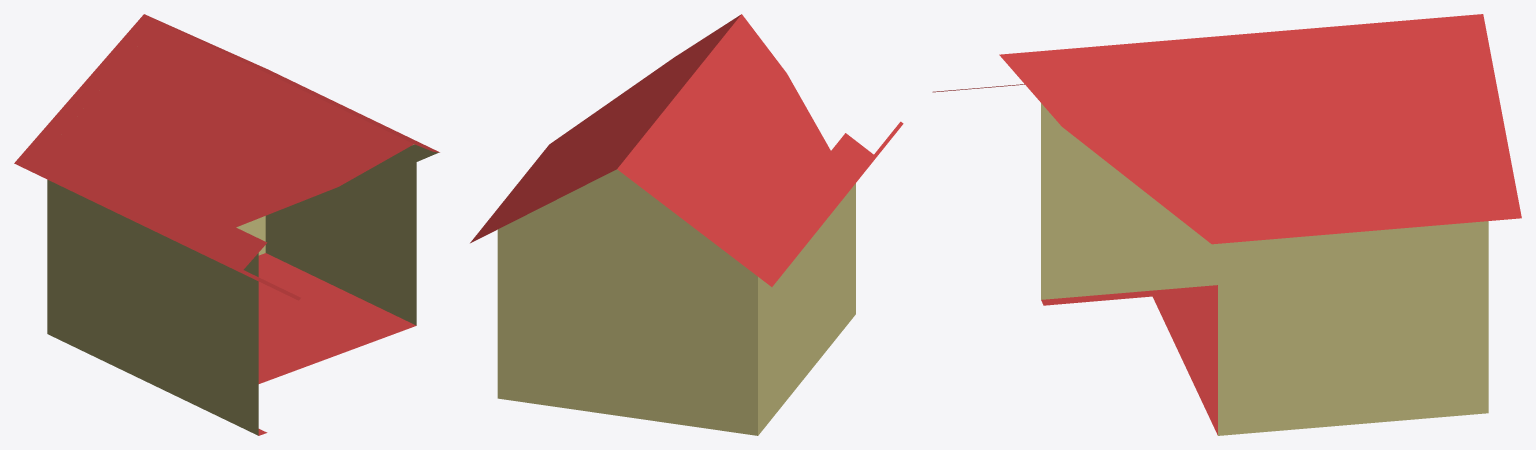
3 views of the same model, side by side, from view 1: azimuth 30°, elevation 25°; view 2: azimuth 150°, elevation 25°; view 3: azimuth 270°, elevation 25° (orthographic). The views are drawn at different scales.
Size of the model in its own units: 16.27 by 20.84 by 12.72.
